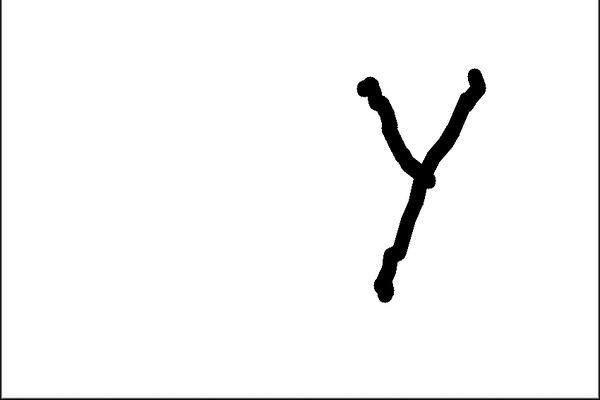Y: (343, 62, 494, 311)
